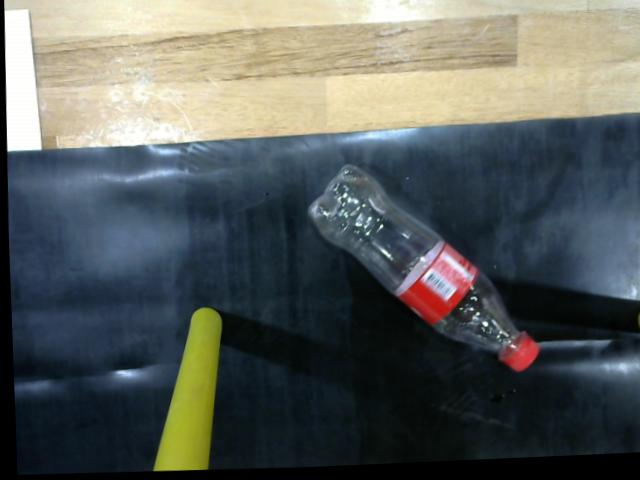bottle: (298, 164, 554, 388)
